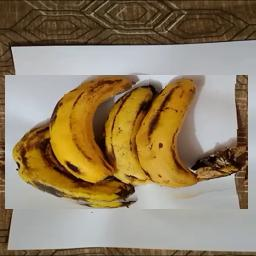Banana Semifresh: (5, 75, 248, 209)
